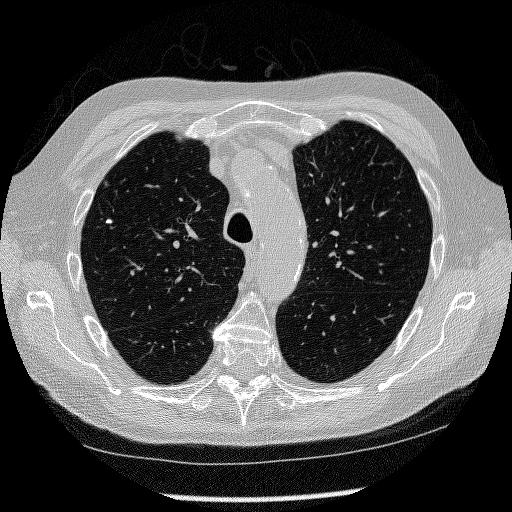nodule: (104, 217, 114, 227)
